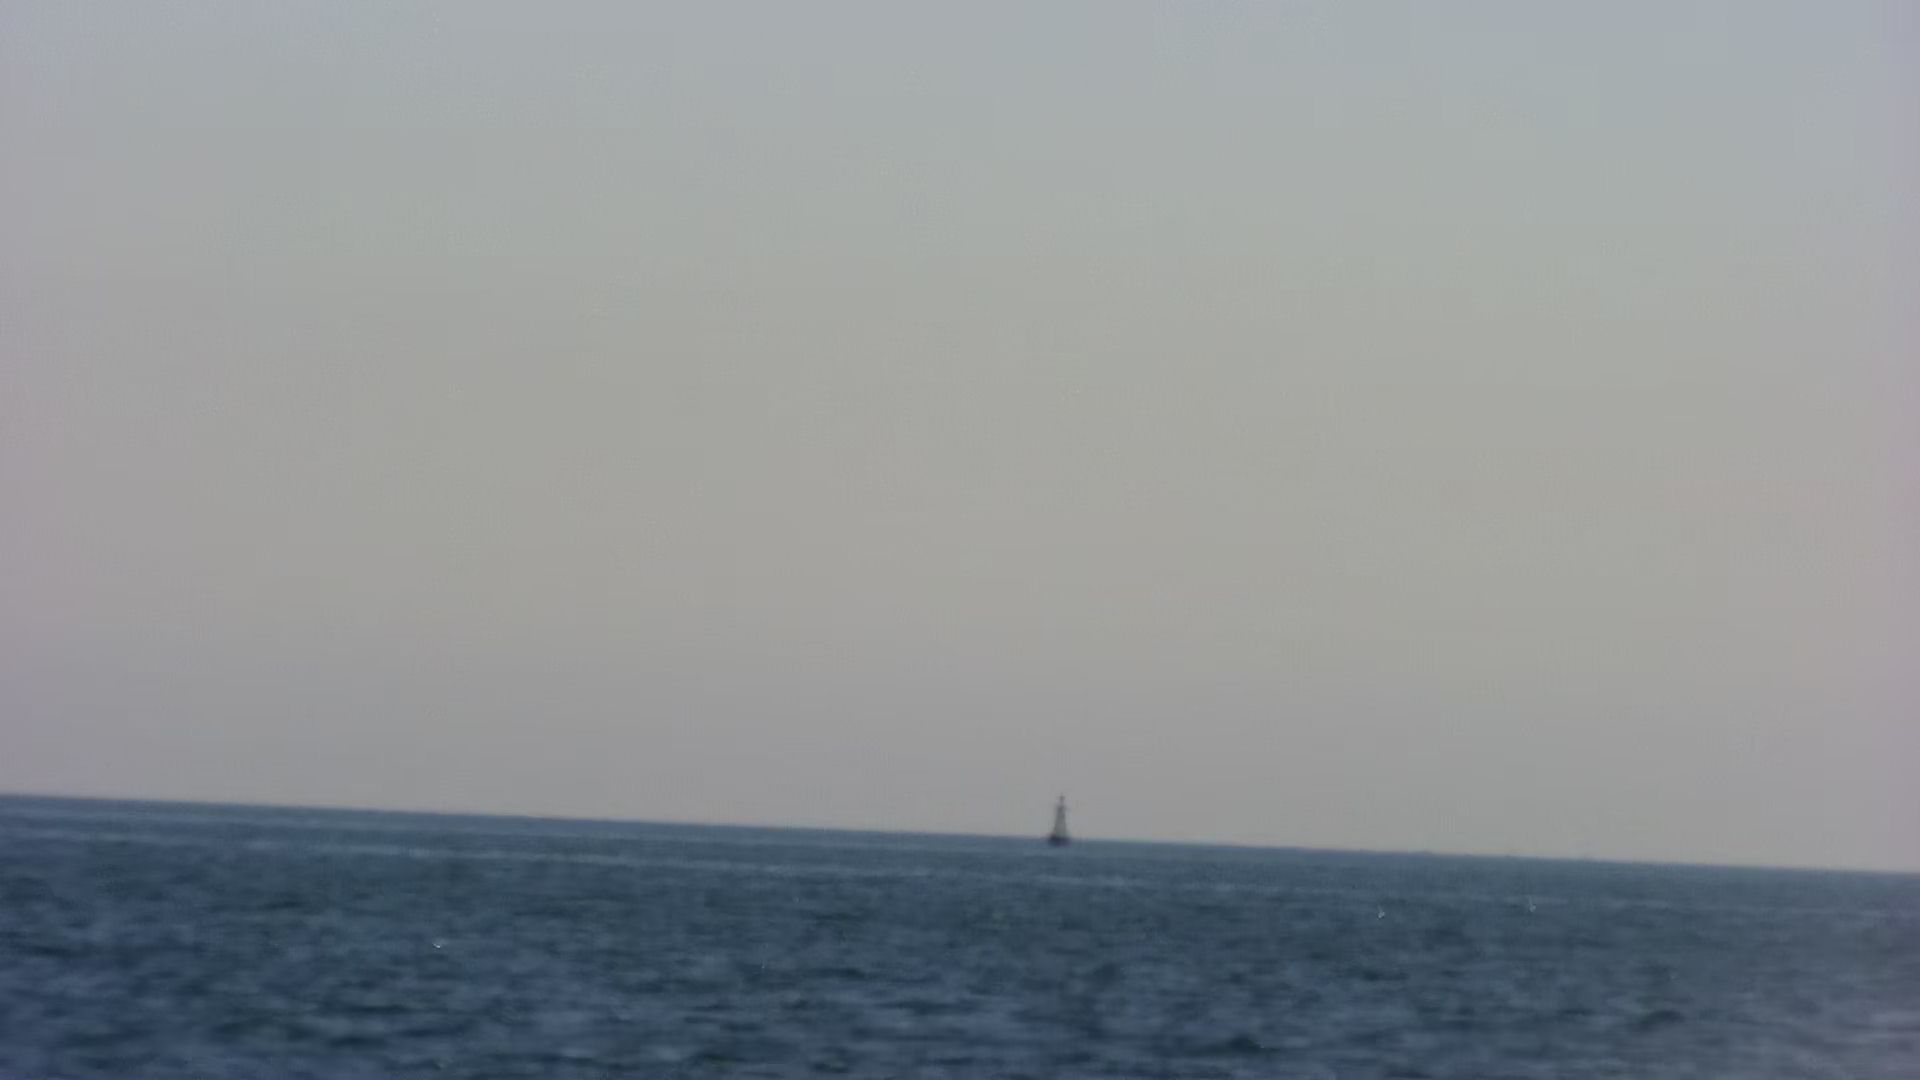buoy: (1043, 798, 1076, 844)
